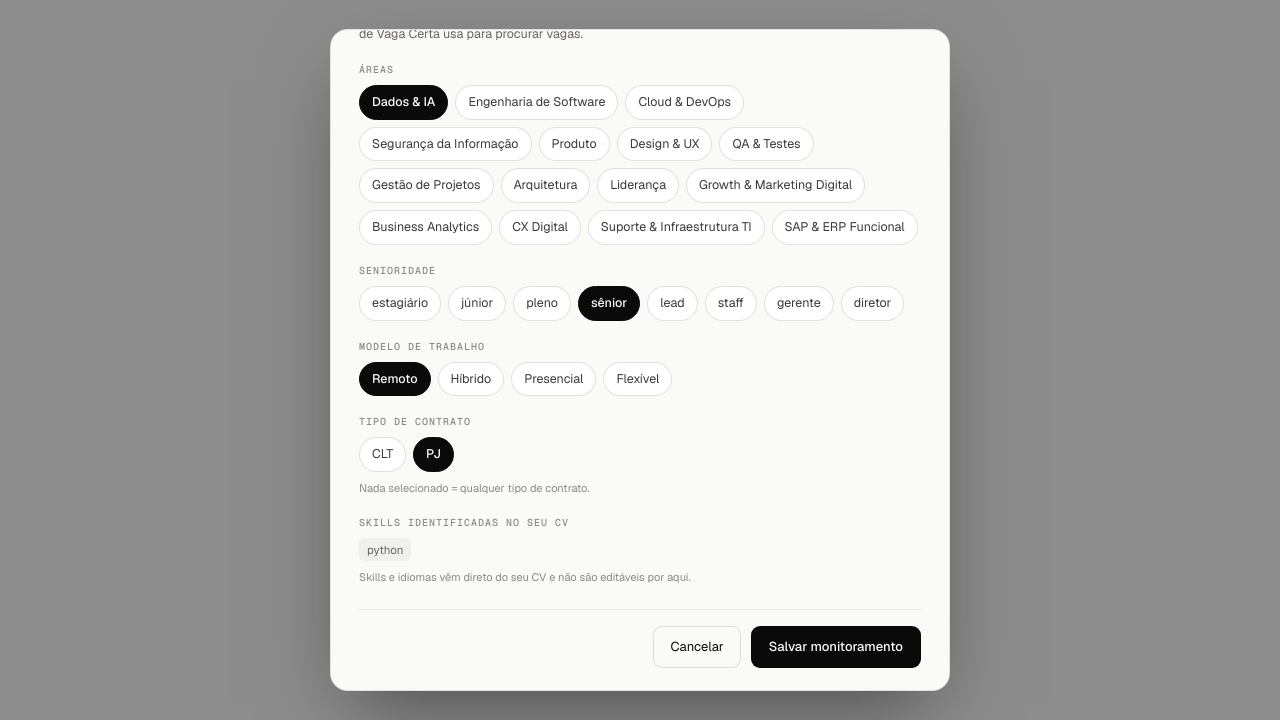
Test: MonitorProfileEditor › shows an error and does not close when saving fails
(page scrolled)
What coordinates should you click on to do the following:
click the button "Salvar monitoramento"
I would click on:
 (836, 647)
Its box is [751,626,921,668].
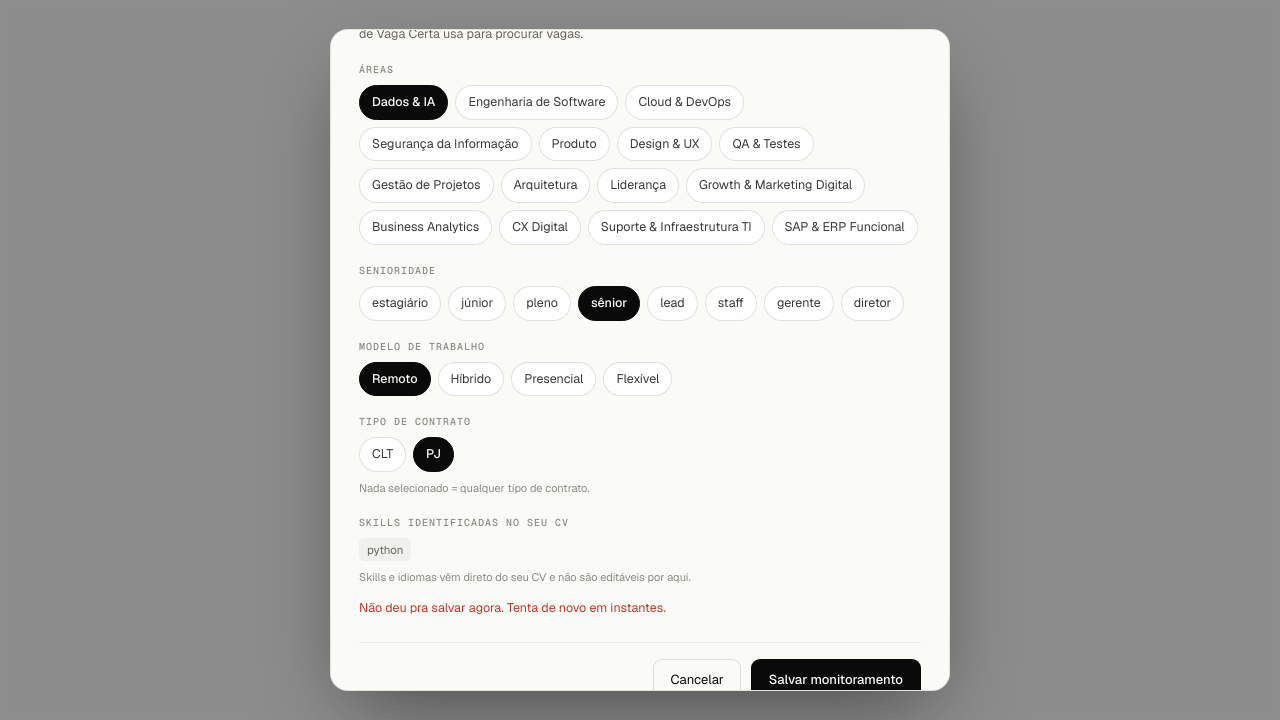
Expected: the text "Não deu pra salvar agora. Tenta de novo em instantes." is shown, [359,599,666,616]
